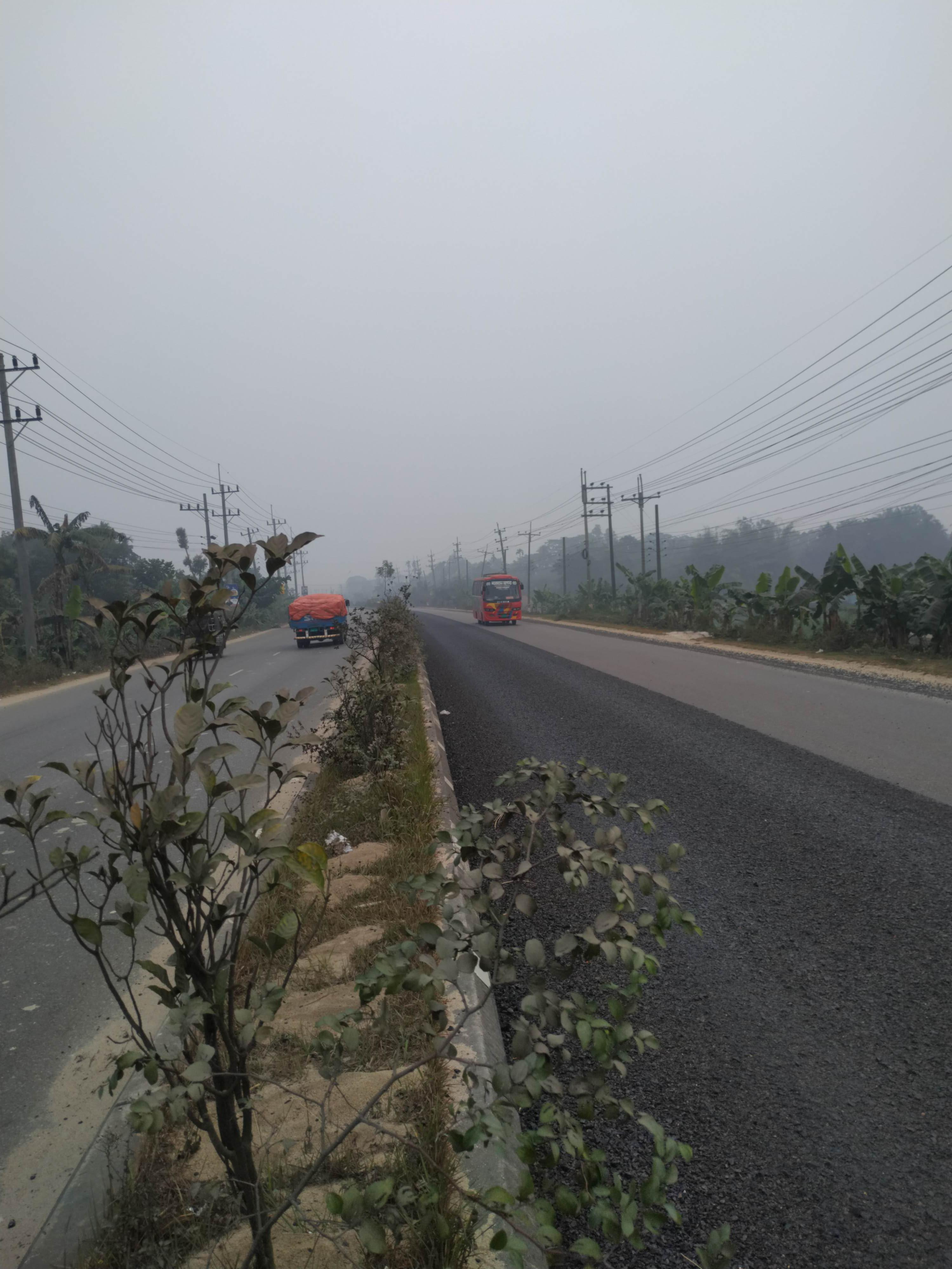Bus: (455, 554, 539, 638)
Truck: (271, 576, 365, 653)
